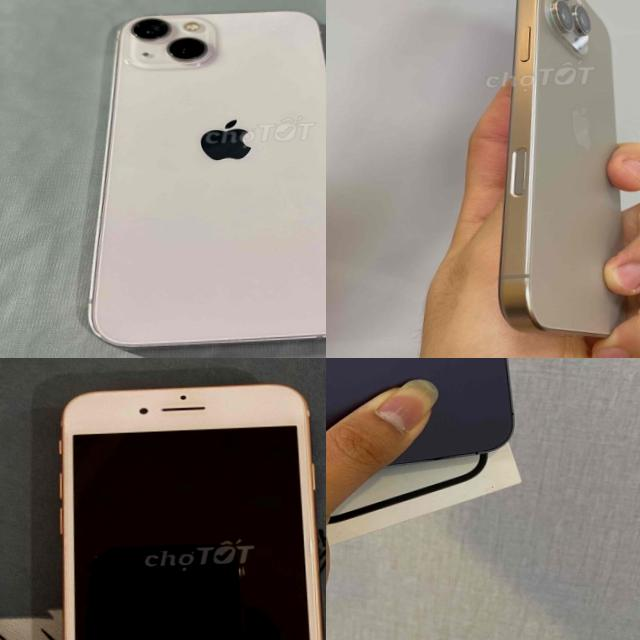gen_12_13: (64, 1, 326, 354)
gen_14: (326, 358, 524, 476)
gen_16: (499, 0, 623, 336)
gen_7_8: (46, 374, 326, 640)
